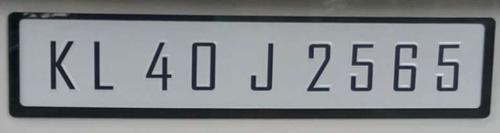0: (186, 39, 222, 95)
2: (301, 37, 337, 95)
4: (143, 39, 174, 95)
5: (433, 40, 467, 97), (348, 41, 379, 96)
6: (391, 36, 426, 100)
J: (243, 35, 279, 95)
K: (44, 37, 80, 96)
L: (87, 32, 118, 98)
